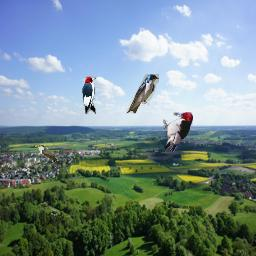Cuckoo: (34, 145, 60, 168)
Swallow: (126, 74, 159, 114)
Woodpecker: (163, 112, 193, 152), (82, 75, 96, 114)
